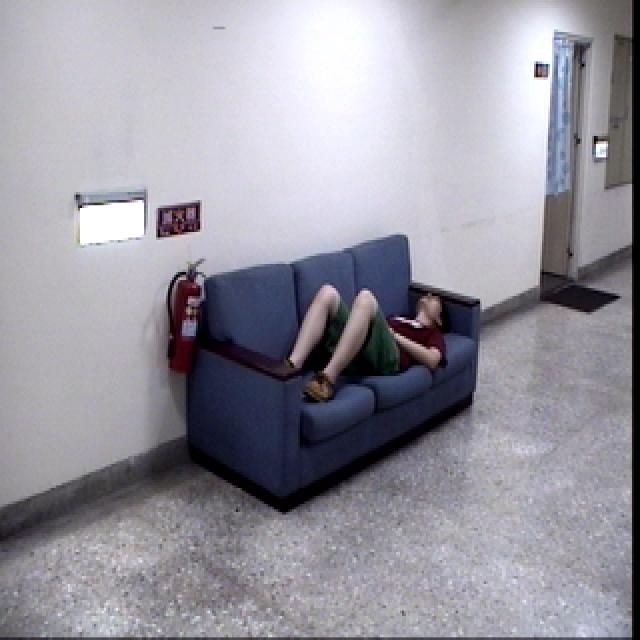lie: (262, 270, 452, 404)
